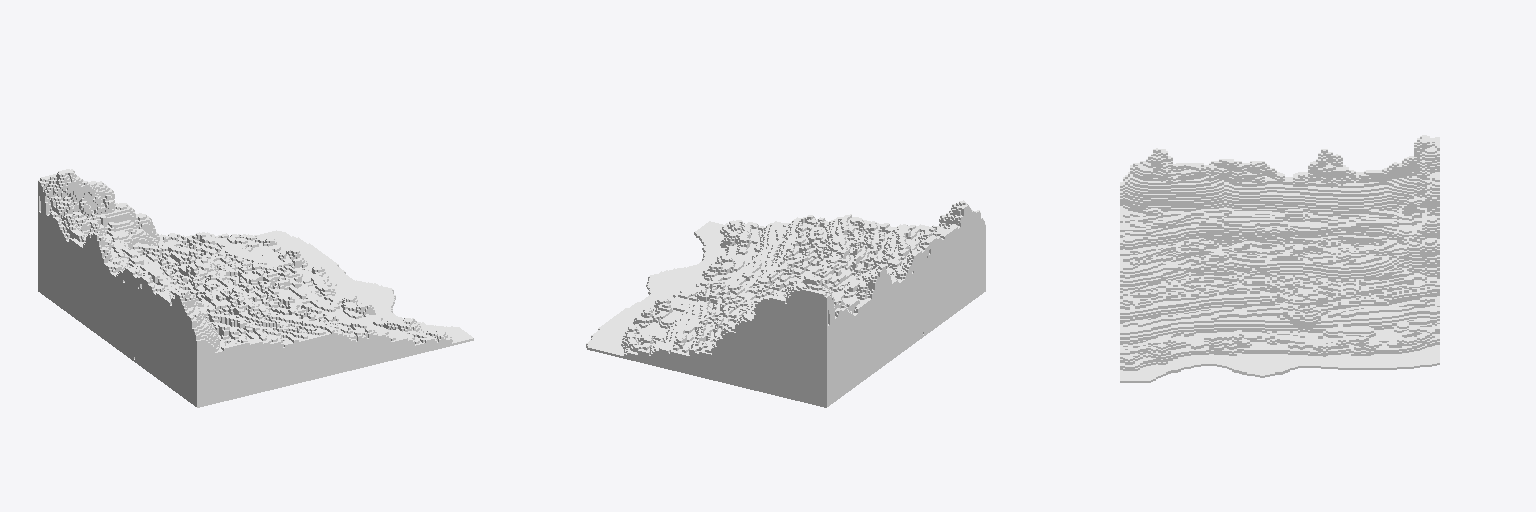
File: Border9.obj
3 views of the same model, side by side, from view 1: azimuth 30°, elevation 25°; view 2: azimuth 150°, elevation 25°; view 3: azimuth 270°, elevation 25° (orthographic).
Bounding box in the file's own units: 126 × 52 × 126.